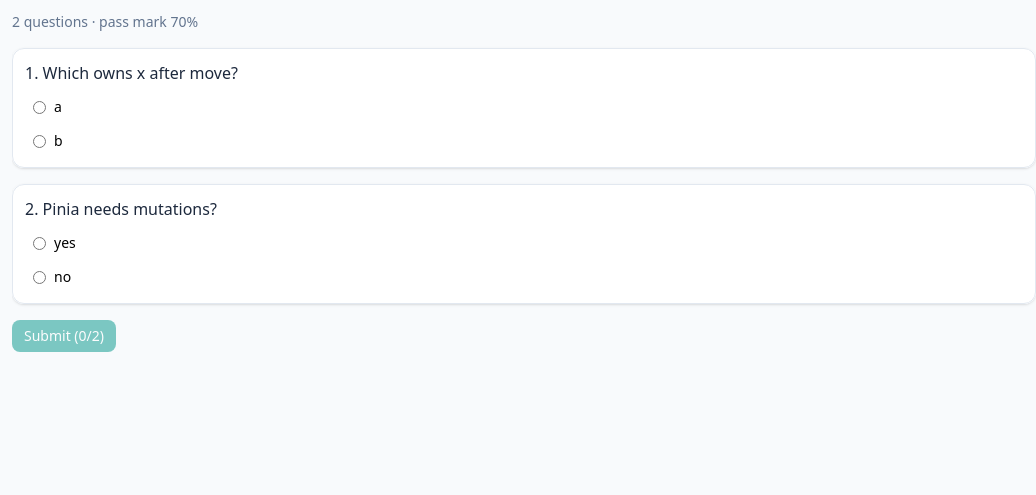
it: <QuizPanel> › scores a perfect run as passed and records the attempt
Click the radio button labelled "b" at [40, 141], box left=33, top=134, right=46, bottom=148
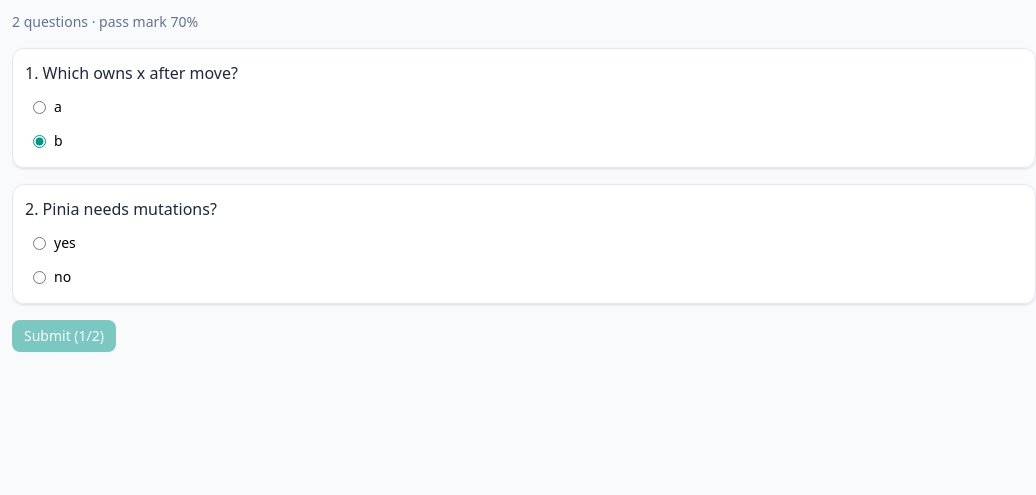
Click the radio button labelled "no" at [40, 277], box left=33, top=270, right=46, bottom=284
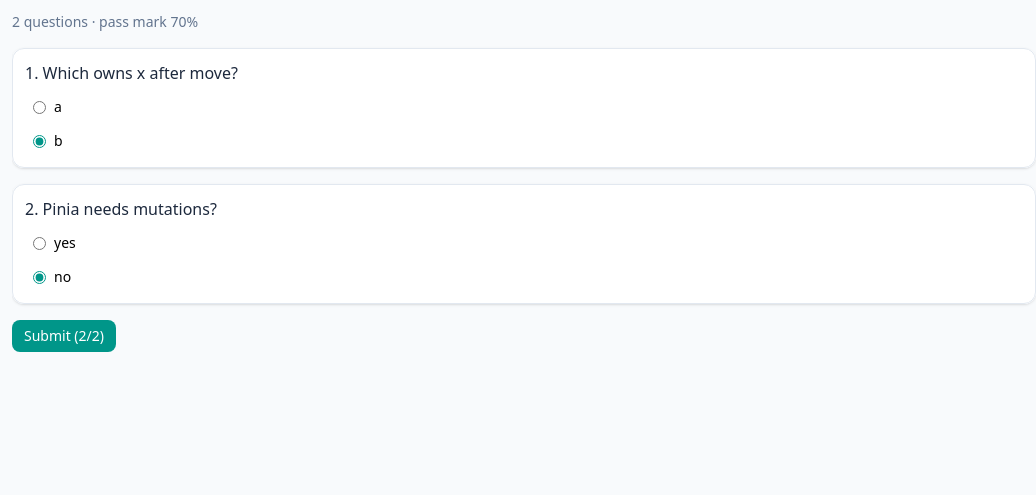
Click the button with test id "quiz-submit" at [64, 336], box left=12, top=320, right=116, bottom=352
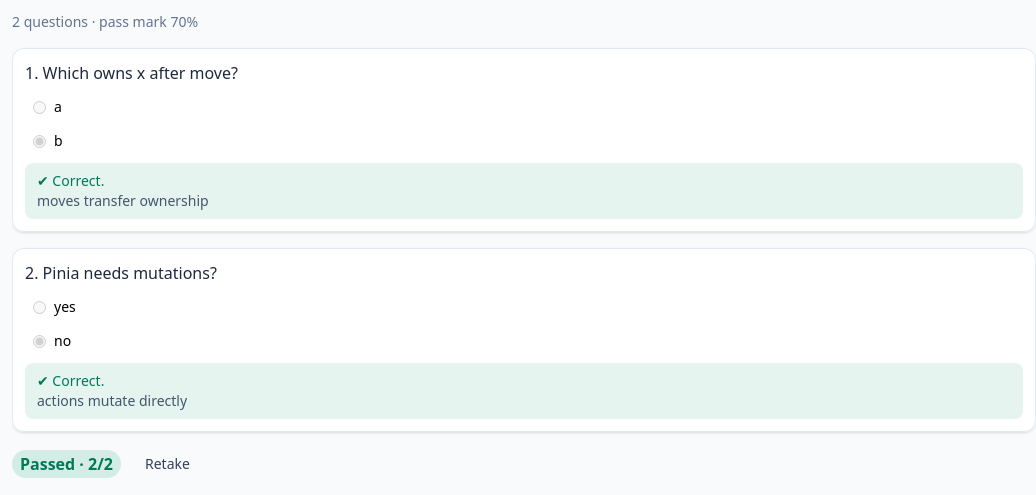
Expected: the text with test id "quiz-result" shows "Passed", left=20, top=453, right=113, bottom=475
